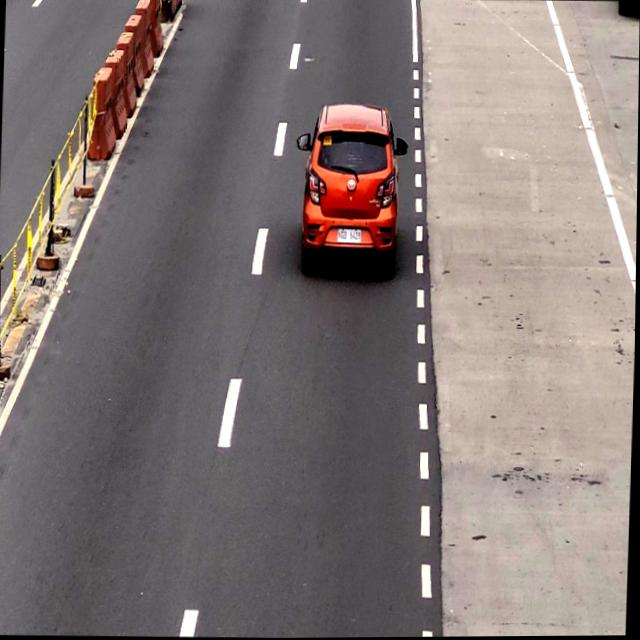Car: (300, 105, 404, 271)
License-Plate: (337, 229, 363, 245)
